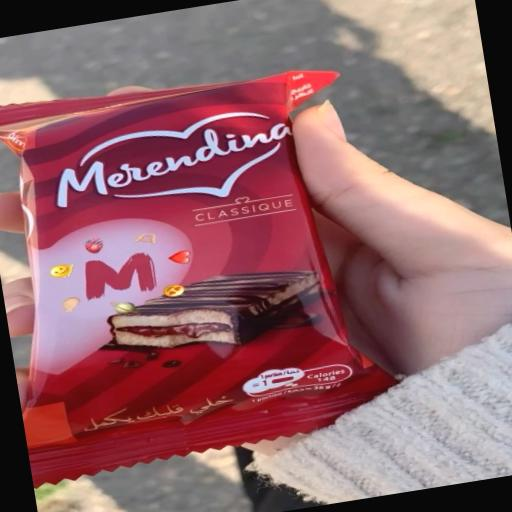merendina: (0, 12, 441, 487)
